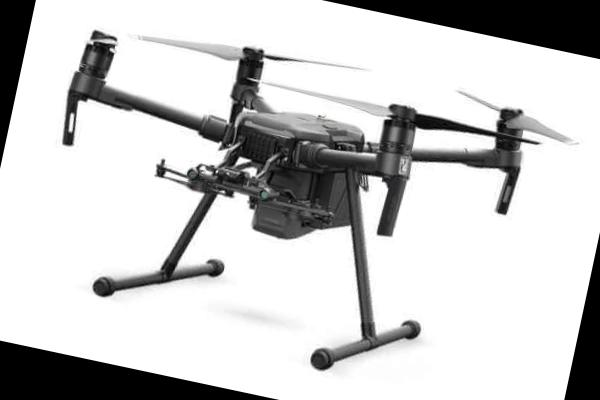drone: (36, 0, 600, 294)
